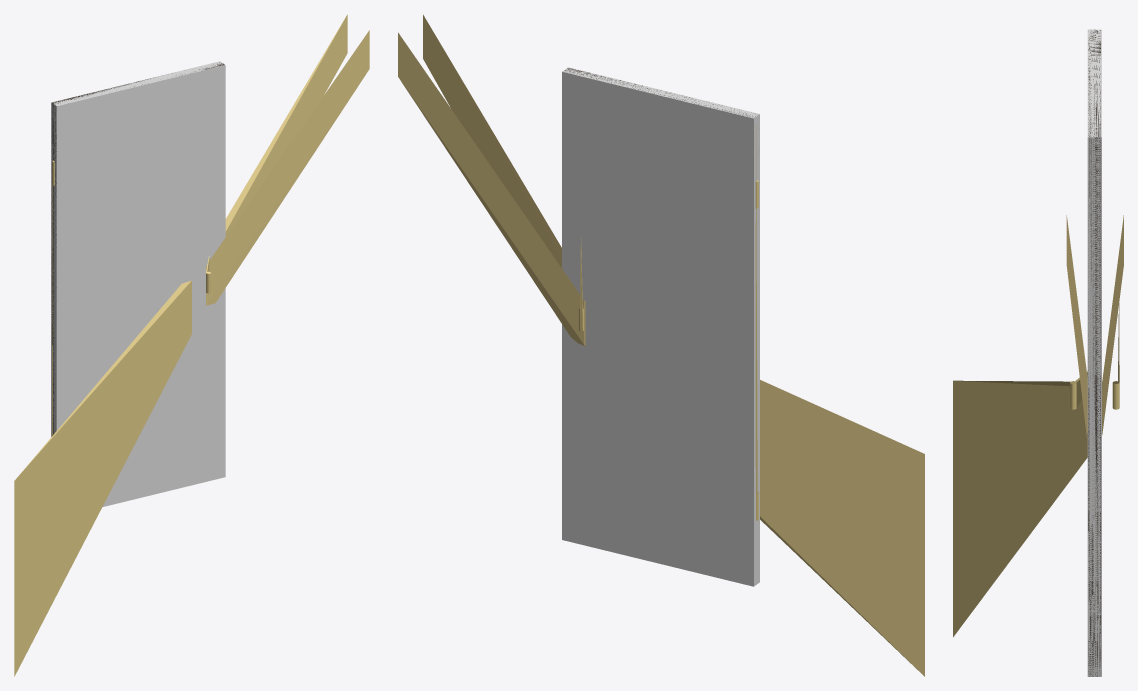
Rendered from SM_Arch_DoorStandard_01.glb.
The picture shows the model from 3 angles, left to right: view 1: azimuth 30°, elevation 25°; view 2: azimuth 150°, elevation 25°; view 3: azimuth 270°, elevation 25°; orthographic projection. The views are drawn at different scales.
Parts seen in each view (by area): view 1: COL_Arch_DoorStandard_01, SM_Arch_DoorStandard_01; view 2: COL_Arch_DoorStandard_01, SM_Arch_DoorStandard_01; view 3: SM_Arch_DoorStandard_01, COL_Arch_DoorStandard_01.
Boxes of the visible parts, x1,y1,x2,y2 form: COL_Arch_DoorStandard_01: (51, 61, 225, 506); SM_Arch_DoorStandard_01: (14, 14, 369, 676); COL_Arch_DoorStandard_01: (562, 67, 759, 586); SM_Arch_DoorStandard_01: (398, 14, 924, 676); SM_Arch_DoorStandard_01: (953, 29, 1123, 676); COL_Arch_DoorStandard_01: (1087, 29, 1101, 676).
Size of the model in its own units: 2.12 by 2.66 by 0.603.
2 materials, 1 textured.
